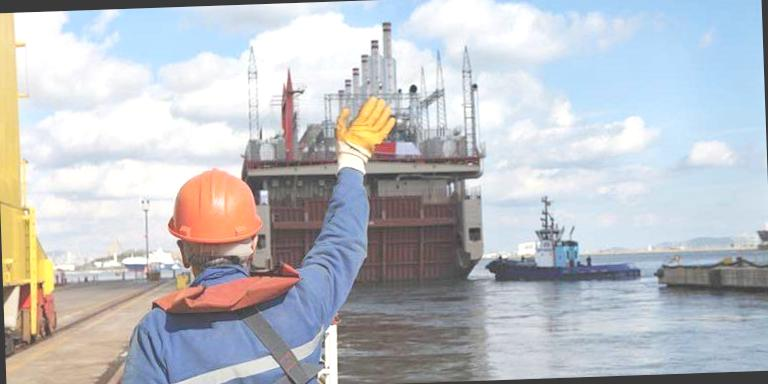helmet: (162, 168, 272, 253)
no_vest: (107, 268, 348, 384)
person: (101, 156, 389, 384)
